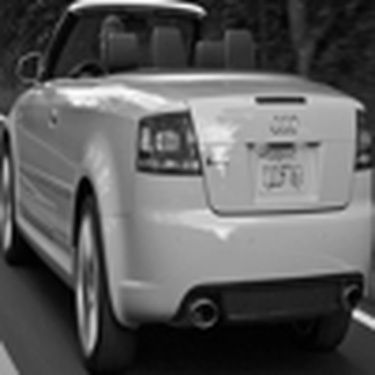car: (4, 3, 370, 370)
